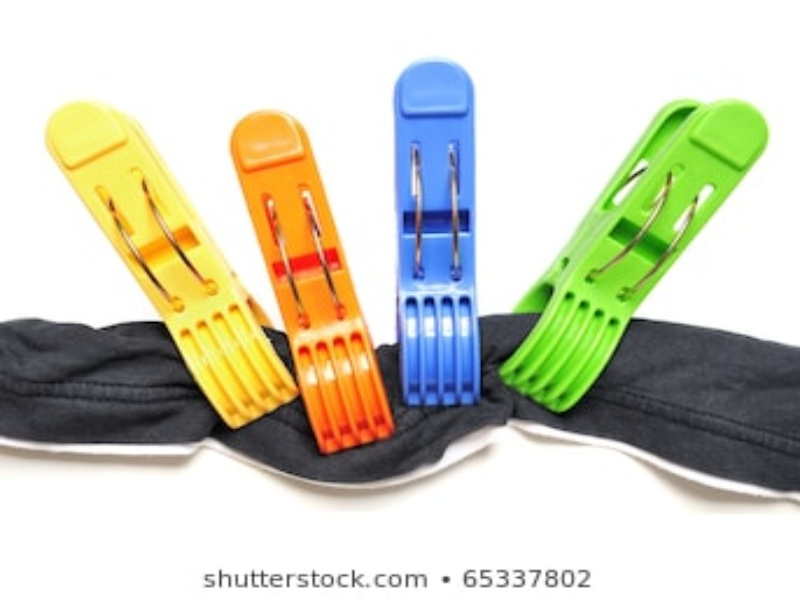plastic-peg: (33, 105, 294, 432), (503, 91, 764, 418), (230, 114, 392, 452), (392, 59, 480, 416)
